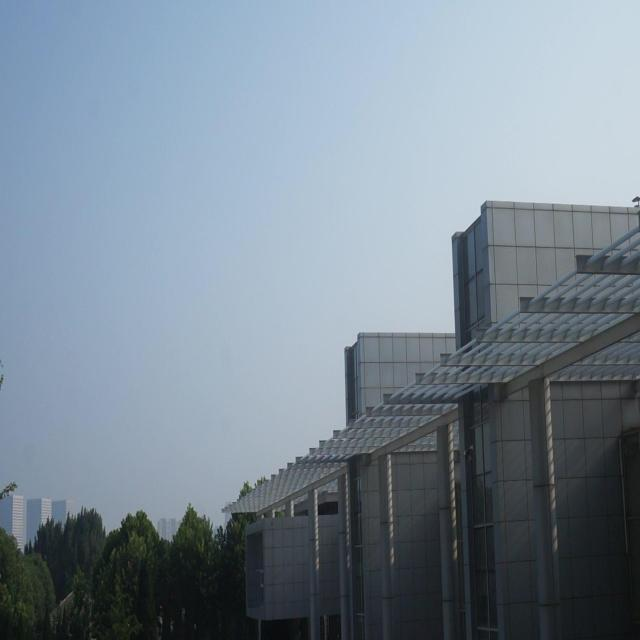drone: (459, 440, 479, 465)
